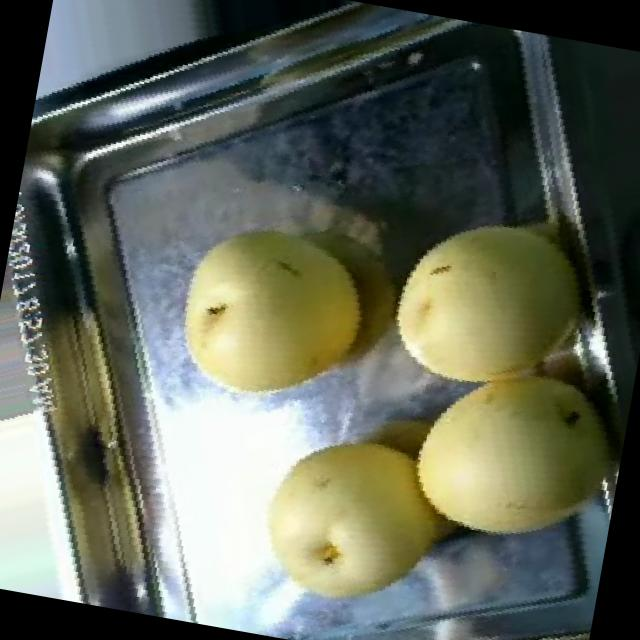Fruit: (346, 161, 640, 445), (361, 310, 638, 590), (125, 177, 408, 448), (213, 379, 496, 640)
